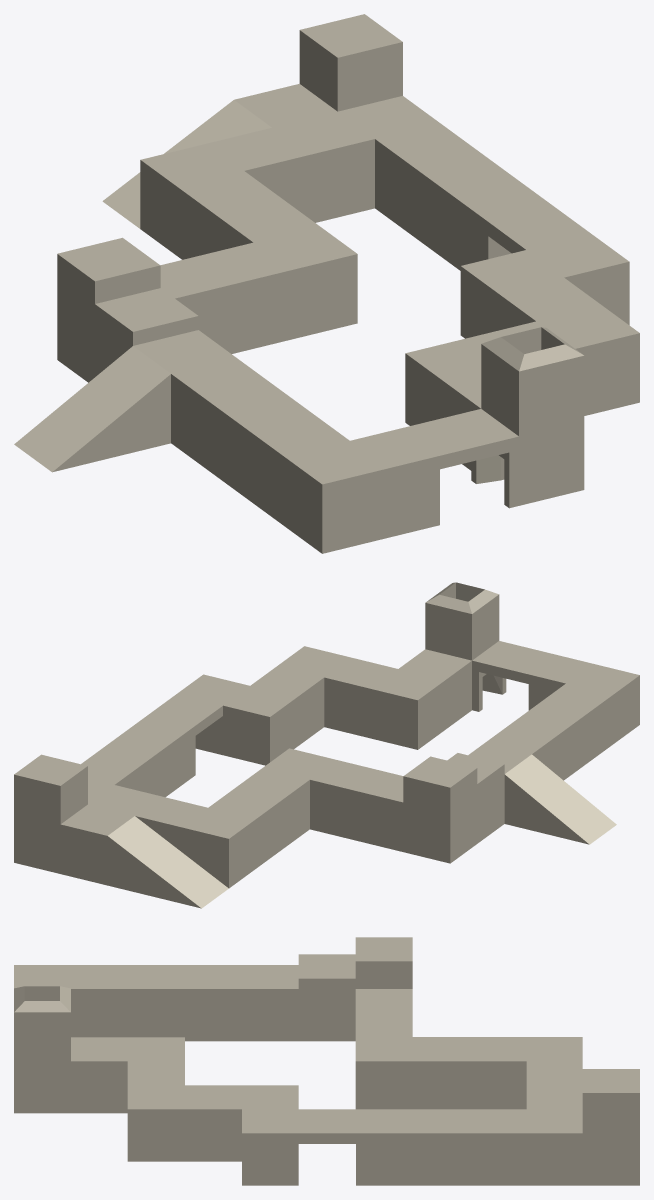
File: building02.fbx
3 views of the same model, one above another, from view 1: azimuth 30°, elevation 25°; view 2: azimuth 150°, elevation 25°; view 3: azimuth 270°, elevation 25° (orthographic). The views are drawn at different scales.
Visible parts, largest first — view 1: building_2; view 2: building_2; view 3: building_2.
Boxes of the visible parts, bbox=[...] form: building_2: bbox=[14, 14, 639, 553]; building_2: bbox=[14, 582, 639, 908]; building_2: bbox=[14, 937, 639, 1185].
Size of the model in its own units: 88.1 by 20.9 by 110.
